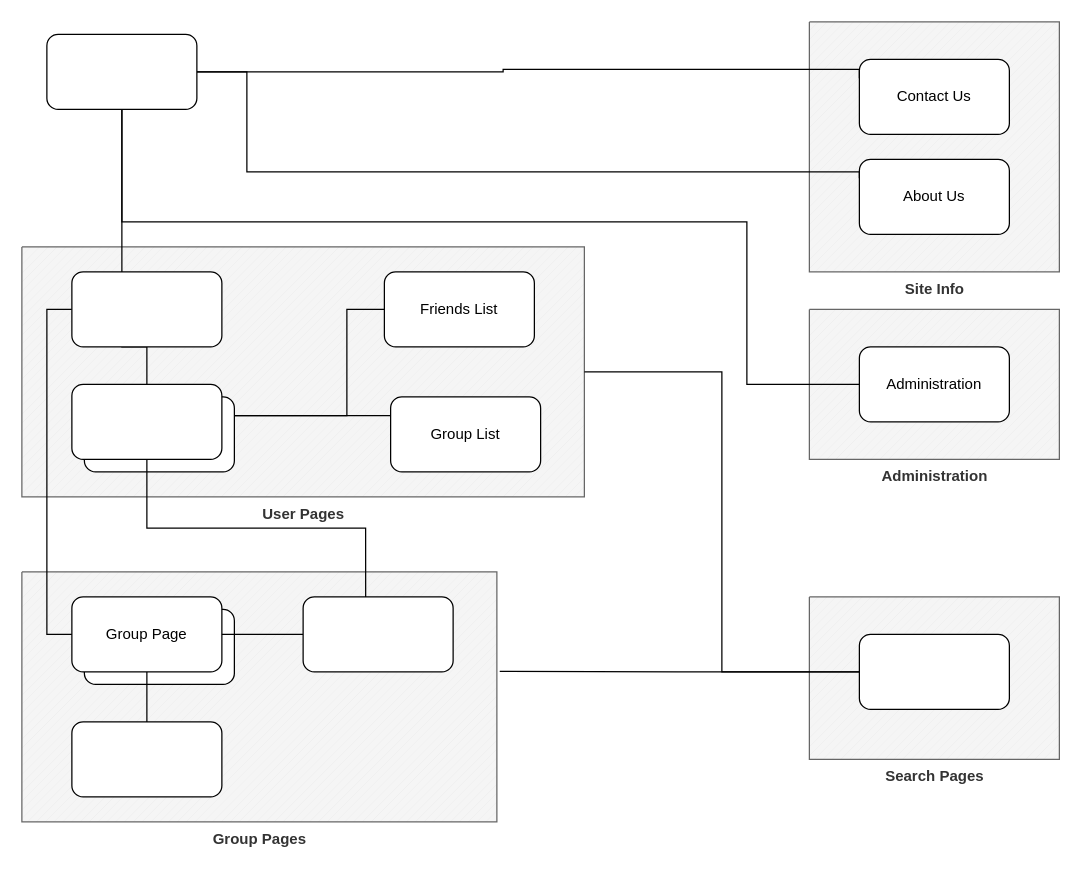
Image size: 1081x870. Some labels were removed from this diagram. The centre of each missing label's shape, as x and y in pixels:
Create Group: point 377,634
Member List: point 146,759
Search Results: point 933,671
Timeline: point 146,309
User Profile: point 146,421
Welcome Page: point 121,71
